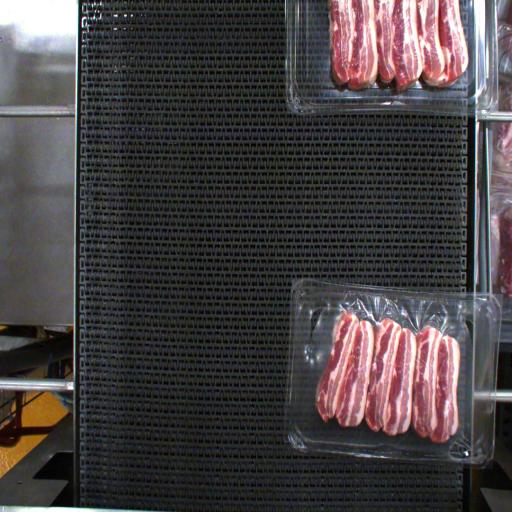unsealed: (296, 278, 502, 459)
